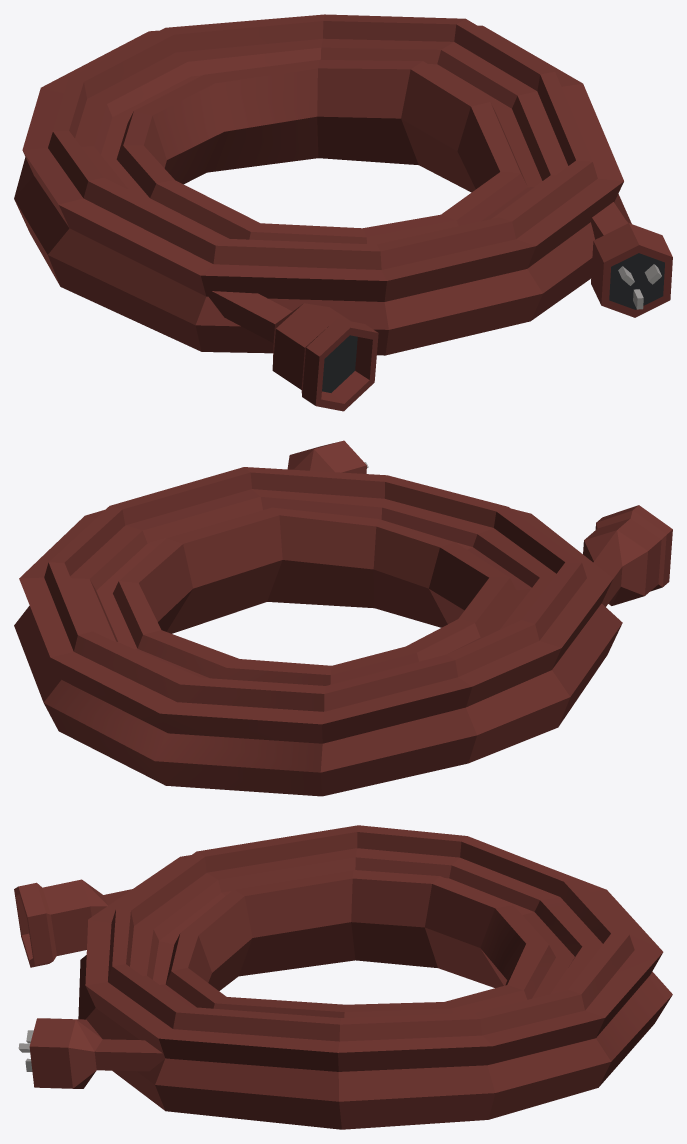
File: SM_Prop_Cable_01.fbx
The picture shows the model from 3 angles, top to bottom: view 1: azimuth 30°, elevation 25°; view 2: azimuth 150°, elevation 25°; view 3: azimuth 270°, elevation 25°; orthographic projection. The views are drawn at different scales.
Parts seen in each view (by area): view 1: SM_Prop_Cable_01; view 2: SM_Prop_Cable_01; view 3: SM_Prop_Cable_01.
Part boxes in pixels (x1,y1,x2,y2): SM_Prop_Cable_01: (14, 14, 672, 411); SM_Prop_Cable_01: (14, 440, 672, 796); SM_Prop_Cable_01: (14, 825, 672, 1129).
Size of the model in its own units: 48.88 by 11.05 by 57.39.
